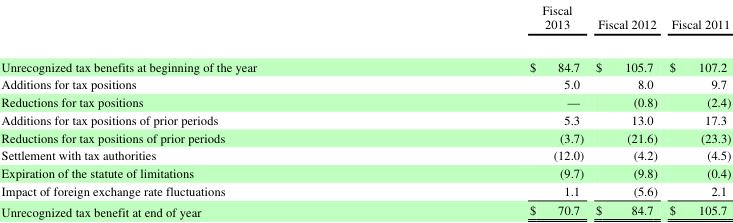table: (0, 0, 730, 219)
table column: (0, 0, 392, 219), (392, 0, 589, 219), (589, 0, 662, 219), (662, 0, 730, 219)
table column header: (0, 0, 730, 44)
table row: (0, 0, 730, 44), (0, 44, 730, 74), (0, 199, 730, 219), (0, 74, 730, 92), (0, 92, 730, 110), (0, 127, 730, 145), (0, 145, 730, 163), (0, 163, 730, 181), (0, 181, 730, 199), (0, 110, 730, 127)
